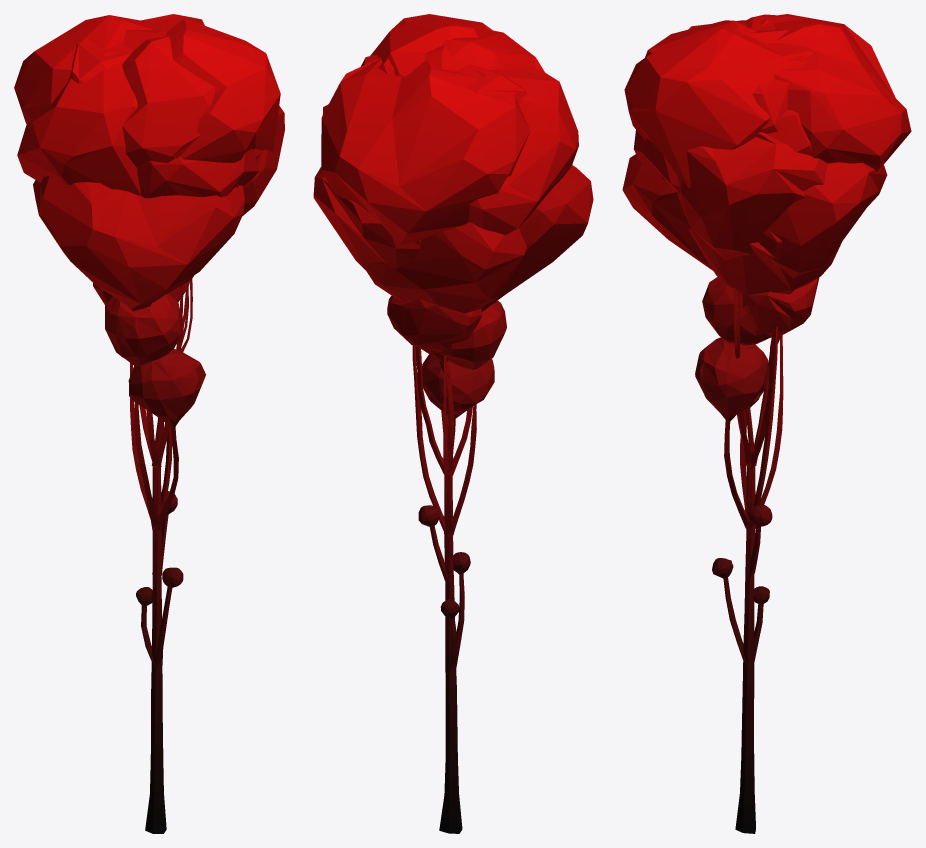
The model's file is TreeBirch04.fbx.
3 renders of one model, left to right at view 1: azimuth 30°, elevation 25°; view 2: azimuth 150°, elevation 25°; view 3: azimuth 270°, elevation 25°, orthographic. The views are drawn at different scales.
Parts seen in each view (by area): view 1: TreeBirch04_LOD0; view 2: TreeBirch04_LOD0; view 3: TreeBirch04_LOD0.
Boxes of the visible parts, x1,y1,x2,y2 form: TreeBirch04_LOD0: (14,14,284,833); TreeBirch04_LOD0: (313,14,593,833); TreeBirch04_LOD0: (622,14,911,833).
Size of what is drawn, in the model's own units: 421 by 1325 by 430.
